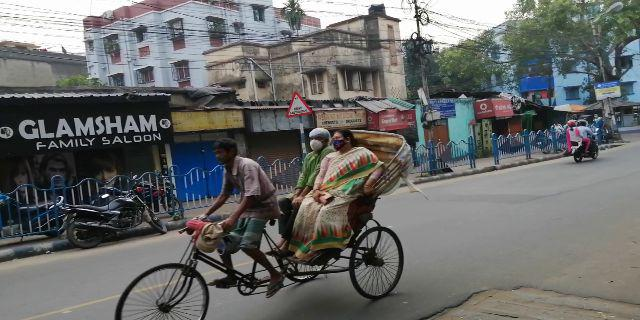Motorbike: (61, 190, 168, 247), (562, 125, 606, 164)
Rickshaw: (112, 122, 407, 316)
